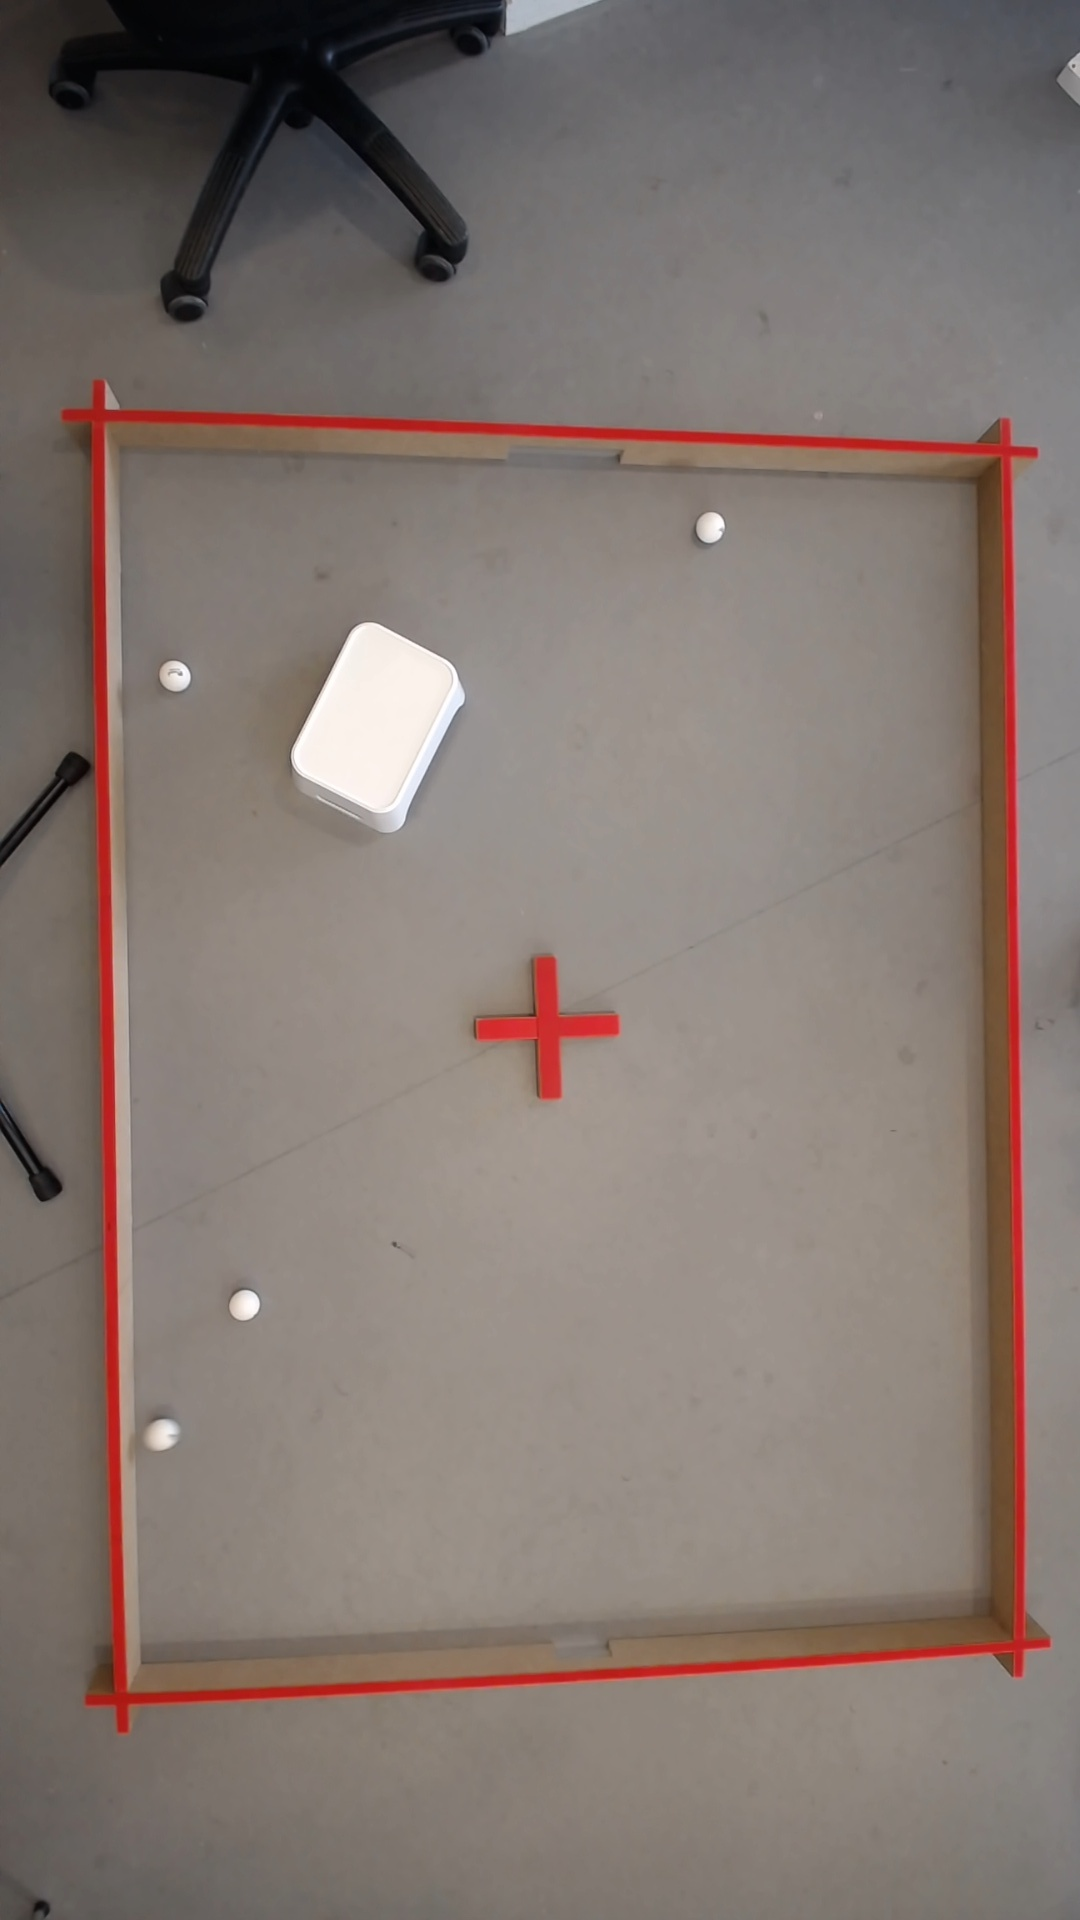balls: (280, 613, 477, 829), (156, 655, 194, 694), (228, 1286, 264, 1324), (700, 512, 724, 542)
car: (145, 1415, 181, 1453)
